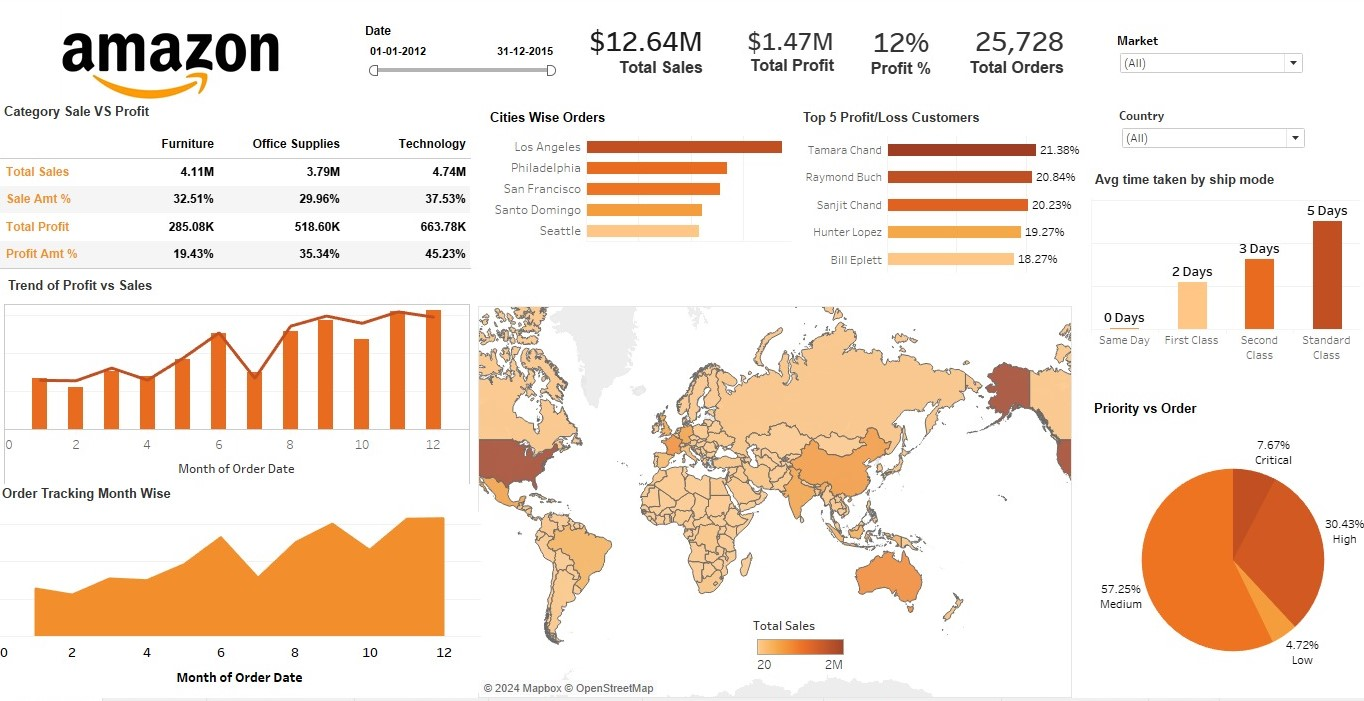

The dashboard page shown, as its layout file describes it:
{"tool":"tableau","page":{"name":"Dashboard 1","canvas":[1000,1000],"units":"permille","ordinal":0},"visuals":[{"type":"image","param":"D:/Desktop/My Lecture/Tableau/Amazon Data Analysis.twb Files/Image/Amazon-Logo-2","box":[27.3,6.1,198.2,176.1]},{"type":"worksheet","title":"Total Orders","mark":"Automatic","box":[695.2,16.3,144.6,168.5]},{"type":"worksheet","title":"Total Profit","mark":"Automatic","box":[542,19.9,97.8,137.7]},{"type":"worksheet","title":"Profit %","mark":"Automatic","box":[632,19.9,144.6,154]},{"type":"worksheet","title":"Total Sales","mark":"Automatic","box":[416.4,21.7,129.9,179.3]},{"type":"filter","title":"Category Sale VS Profit","param":"[federated.14xyxr00y9ayxo188zlxs1qjeqmv].[none:Order Date:qk]","box":[268.7,34.4,142.7,97.2]},{"type":"filter","title":"Country Wise Sale","param":"[federated.14xyxr00y9ayxo188zlxs1qjeqmv].[none:Market:nk]","box":[819.1,45.3,138.5,83.3]},{"type":"worksheet","title":"Category Sale VS Profit","mark":"Automatic","cols":["Category"],"box":[1.7,143.1,344.6,242.8]},{"type":"worksheet","title":"No of Orders Vs Cities","mark":"Automatic","rows":["City"],"cols":["Order ID"],"box":[357.6,152.2,224.2,324.3]},{"type":"worksheet","title":"Top 5 Profit/Loss Customers","mark":"Automatic","rows":["Customer Name"],"box":[586.1,152.2,213.8,239.1]},{"type":"filter","title":"Top 5 Profit/Loss Customers","param":"[federated.14xyxr00y9ayxo188zlxs1qjeqmv].[none:Country:nk]","box":[820.8,154,138.5,87]},{"type":"worksheet","title":"Avg time taken by ship mode","mark":"Automatic","rows":["Calculation_866942986638045185"],"cols":["Ship Mode"],"box":[800,240.9,197.4,288]},{"type":"worksheet","title":"Trend of Profit vs Sales","mark":"Automatic","rows":["Calculation_815433065607946240","Calculation_815433065609068545"],"cols":["Order Date"],"box":[4.3,393.1,341.1,302.5]},{"type":"worksheet","title":"Country Wise Sale","mark":"Automatic","box":[351.5,438.4,434.6,561.6]},{"type":"worksheet","title":"Order Tracking Month Wise","mark":"Area","rows":["Calculation_815433065616506885"],"cols":["Order Date"],"box":[0,690.2,353.2,302.5]},{"type":"legend","title":"Country Wise Sale","param":"[federated.14xyxr00y9ayxo188zlxs1qjeqmv].[usr:Calculation_815433065607946240:qk]","box":[552.4,884.1,69.3,105.1]}]}

Visuals, with their boxes on the dashboard's canvas, which has no fixed pixel size, in thousandths of its width and height (x1, y1, x2, y2). These are canvas units, not pixel positions in the 1364x701 screenshot, which may show the page scaled, cropped or inside an application window:
image: detection(27, 6, 226, 182)
"Total Orders" worksheet: detection(695, 16, 840, 185)
"Total Profit" worksheet: detection(542, 20, 640, 158)
"Profit %" worksheet: detection(632, 20, 777, 174)
"Total Sales" worksheet: detection(416, 22, 546, 201)
"Category Sale VS Profit" filter: detection(269, 34, 411, 132)
"Country Wise Sale" filter: detection(819, 45, 958, 129)
"Category Sale VS Profit" worksheet: detection(2, 143, 346, 386)
"No of Orders Vs Cities" worksheet: detection(358, 152, 582, 476)
"Top 5 Profit/Loss Customers" worksheet: detection(586, 152, 800, 391)
"Top 5 Profit/Loss Customers" filter: detection(821, 154, 959, 241)
"Avg time taken by ship mode" worksheet: detection(800, 241, 997, 529)
"Trend of Profit vs Sales" worksheet: detection(4, 393, 345, 696)
"Country Wise Sale" worksheet: detection(352, 438, 786, 1000)
"Order Tracking Month Wise" worksheet (Area marks): detection(0, 690, 353, 993)
"Country Wise Sale" legend: detection(552, 884, 622, 989)
